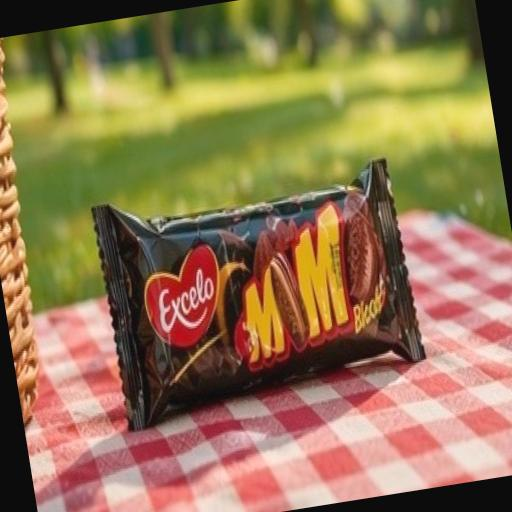MOMO: (62, 102, 487, 502)
